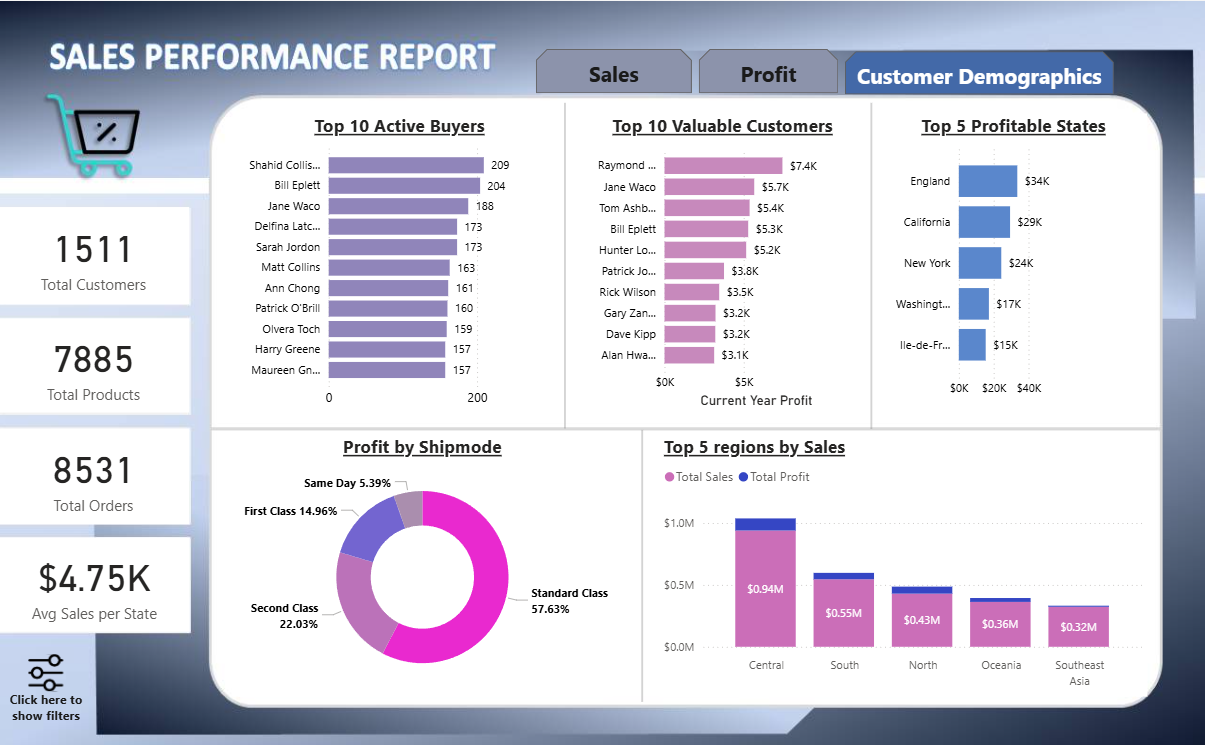

This screenshot's page, from the dashboard's own definition file:
{"tool":"powerbi","page":{"name":"Demographics","canvas":[1300,800],"ordinal":2},"visuals":[{"type":"card","fields":{"Values":["Calculation.Total Customers"]},"box":[0,221.8,205,104.2],"z":0},{"type":"card","fields":{"Values":["Calculation.Total Products"]},"box":[0,341.1,205,100.8],"z":1000},{"type":"card","fields":{"Values":["Calculation.Total Orders"]},"box":[0,459.1,205.2,102.6],"z":2000},{"type":"card","fields":{"Values":["Calculation.Avg Sales per State"]},"box":[1.4,576,204.3,100.8],"z":3000},{"type":"clusteredBarChart","title":"Top 10 Valuable Customers","fields":{"Y":["Calculation.Current Year Profit"],"Category":["globalsuperstore.Customer Name"]},"box":[628,120.6,300.8,320.6],"z":4000},{"type":"actionButton","box":[577.4,51.7,167.5,47.7],"z":5000},{"type":"actionButton","box":[752.4,51.7,149.8,47.7],"z":6000},{"type":"actionButton","box":[909.7,54.5,288.7,46.3],"z":7000},{"type":"clusteredBarChart","title":"Top 10 Active Buyers","fields":{"Category":["globalsuperstore.Customer Name"],"Y":["Calculation.Total Quantity"]},"box":[251.9,121.2,358.2,324.1],"z":8000},{"type":"columnChart","title":"Top 5 regions by Sales","fields":{"Category":["globalsuperstore.Region"],"Y":["Calculation.Total Sales","Calculation.Total Profit"]},"box":[710.6,466,523.9,280.9],"z":9000},{"type":"clusteredBarChart","title":"Top 5 Profitable States","fields":{"Category":["globalsuperstore.State"],"Y":["Calculation.Current Year Profit"]},"box":[947,120.6,287.6,314],"z":10000},{"type":"shape","box":[591,108.9,36.8,350],"z":11000},{"type":"shape","box":[928.8,109.1,18.2,350.4],"z":12000},{"type":"actionButton","title":"ShowFilterButton","box":[1.7,697.2,100.8,82.3],"z":13000},{"type":"donutChart","title":" Profit by Shipmode","fields":{"Category":["globalsuperstore.Ship Mode"],"Y":["Sum(globalsuperstore.Profit)"]},"box":[251.2,466,409.9,280.9],"z":15000},{"type":"shape","box":[672.6,461.1,38,292.5],"z":16000}]}

Visuals, with their boxes in screenshot pixels (x1, y1, x2, y2), scaled from the page's 1300x800 canvas onto the 1205x745 screenshot:
card - Calculation.Total Customers: x1=0, y1=207, x2=190, y2=304
card - Calculation.Total Products: x1=0, y1=318, x2=190, y2=412
card - Calculation.Total Orders: x1=0, y1=428, x2=190, y2=523
card - Calculation.Avg Sales per State: x1=1, y1=536, x2=191, y2=630
"Top 10 Valuable Customers" clusteredBarChart: x1=582, y1=112, x2=861, y2=411
actionButton: x1=535, y1=48, x2=690, y2=93
actionButton: x1=697, y1=48, x2=836, y2=93
actionButton: x1=843, y1=51, x2=1111, y2=94
"Top 10 Active Buyers" clusteredBarChart: x1=233, y1=113, x2=566, y2=415
"Top 5 regions by Sales" columnChart: x1=659, y1=434, x2=1144, y2=696
"Top 5 Profitable States" clusteredBarChart: x1=878, y1=112, x2=1144, y2=405
shape: x1=548, y1=101, x2=582, y2=427
shape: x1=861, y1=102, x2=878, y2=428
"ShowFilterButton" actionButton: x1=2, y1=649, x2=95, y2=726
" Profit by Shipmode" donutChart: x1=233, y1=434, x2=613, y2=696
shape: x1=623, y1=429, x2=659, y2=702
